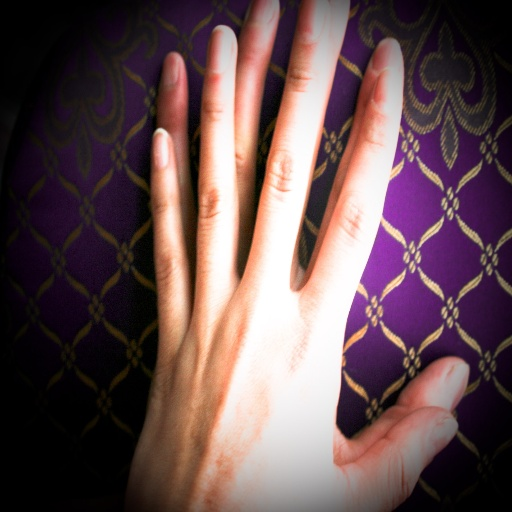hand: (148, 0, 468, 464)
